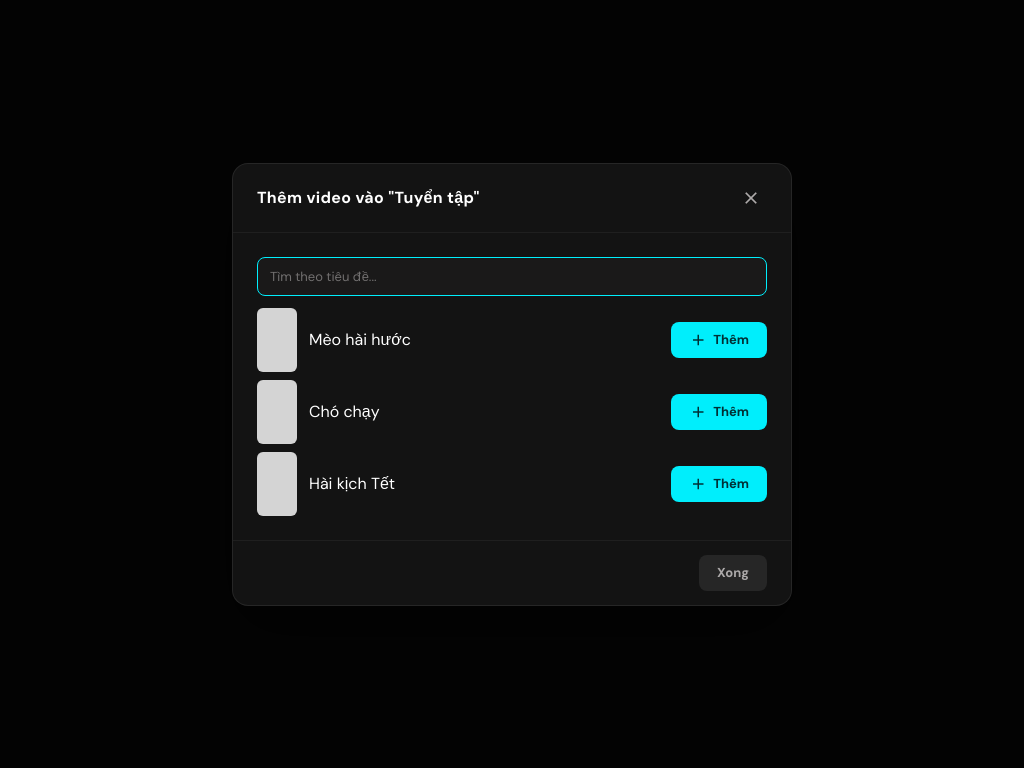
Scenario: AddVideosModal › filters by title without accents, all words must match
Expected: the text "Chó chạy" is shown, [309,401,380,422]
Type "hai" into the search field named "Tìm video" at (512, 276), box [257,256,767,296]
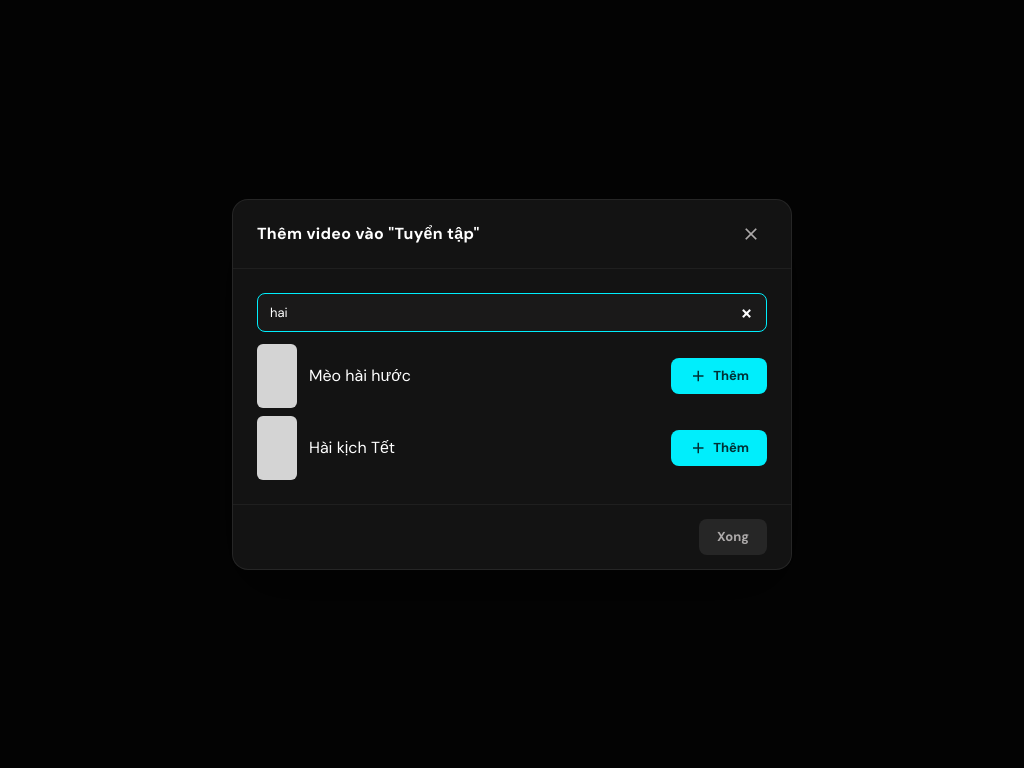
Expected: the text "Mèo hài hước" is shown, [309,365,411,386]
Expected: the text "Chó chạy" is gone
Replace the text in the search field named "Tìm video" with "hai tet" at (512, 312), box [257,292,767,332]
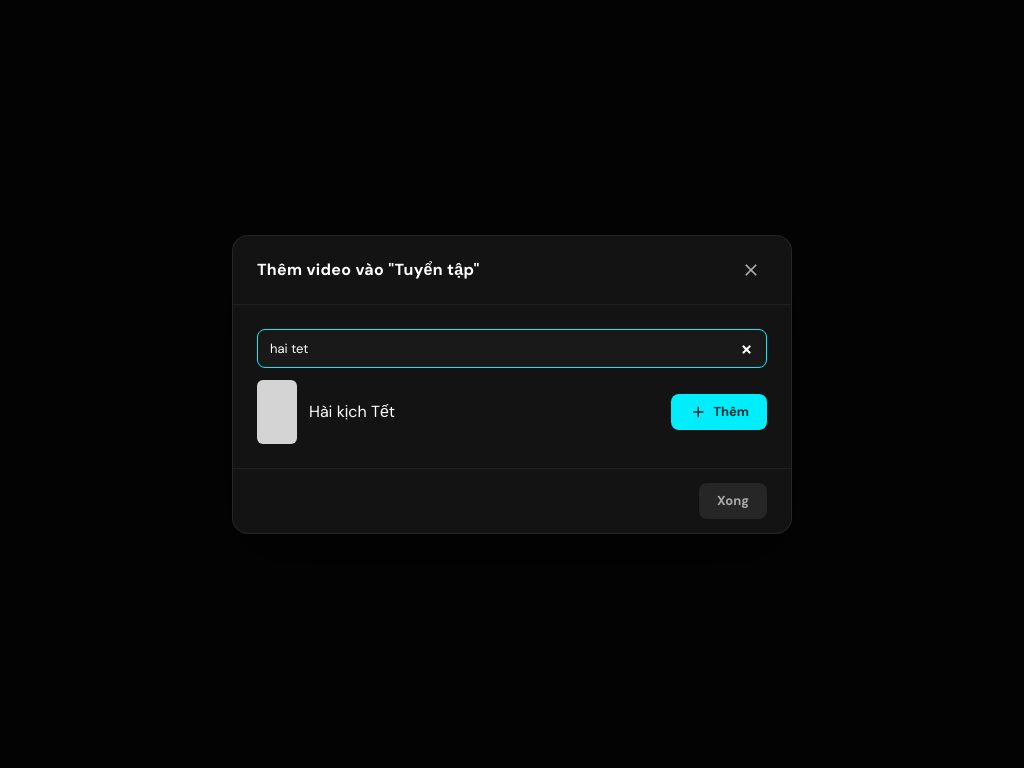
Expected: the text "Hài kịch Tết" is shown, [309,401,395,422]
Expected: the text "Mèo hài hước" is gone
Replace the text in the search field named "Tìm video" with "zzz" at (512, 348), box [257,328,767,368]
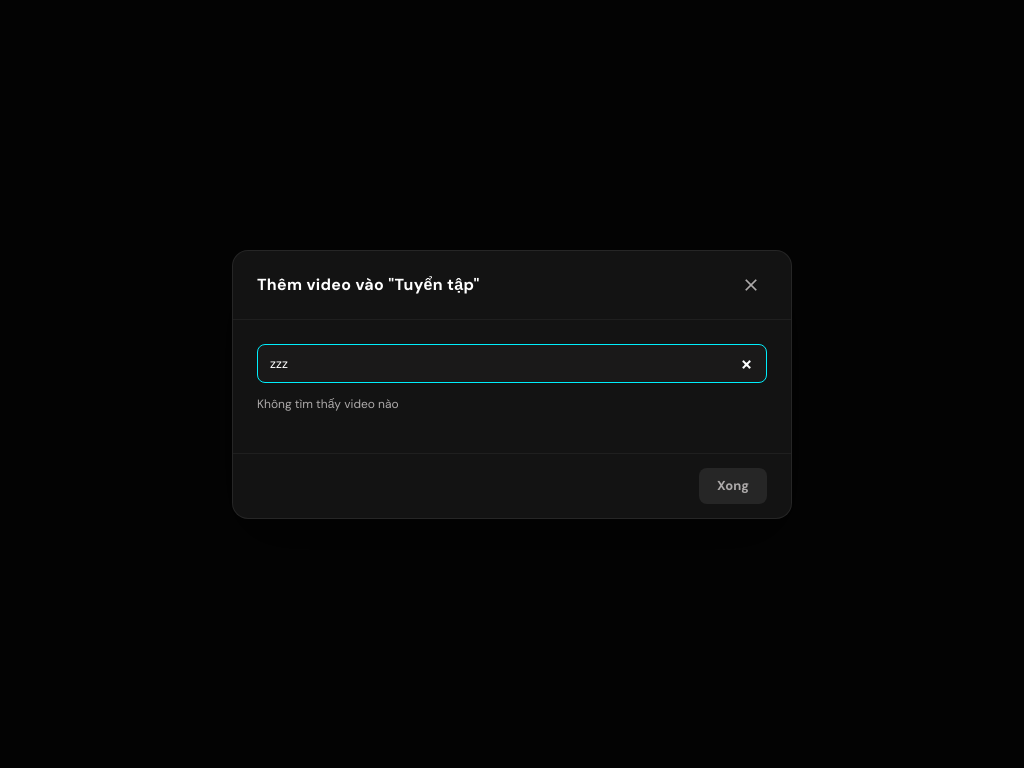
Expected: the message reads "Không tìm thấy video nào", [257,396,399,412]
